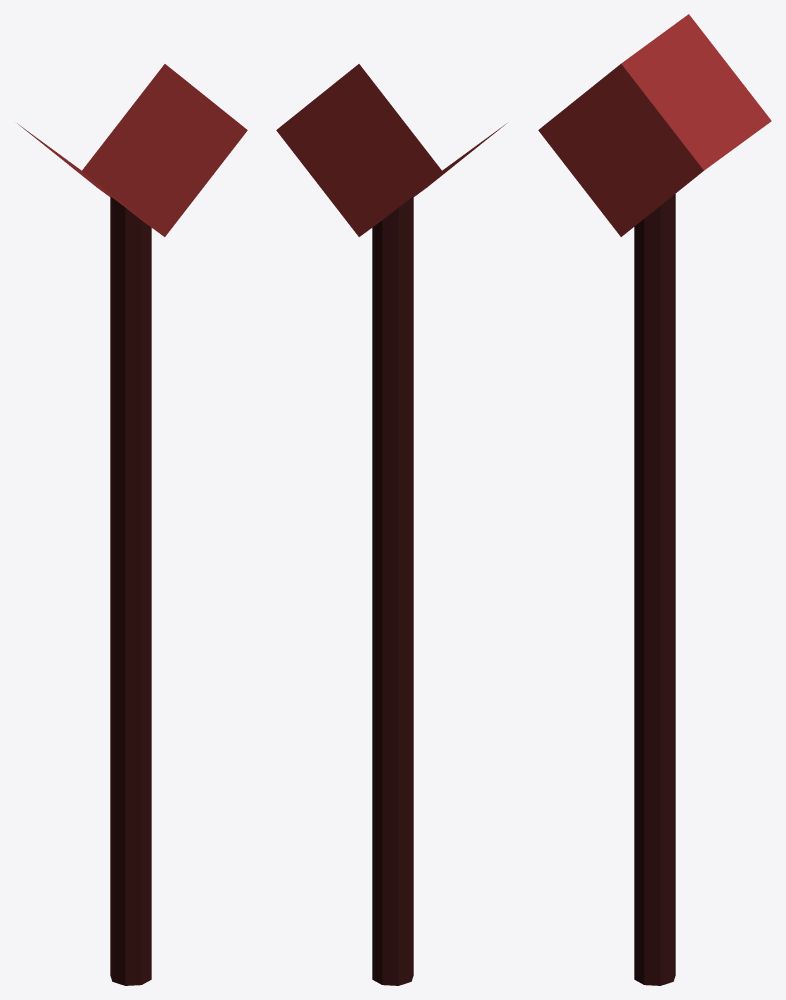
Rendered from warlock.glb.
3 renders of one model, left to right at view 1: azimuth 30°, elevation 25°; view 2: azimuth 150°, elevation 25°; view 3: azimuth 330°, elevation 25°, orthographic.
Parts seen in each view (by area): view 1: warlock-shaft, warlock-head-gem; view 2: warlock-shaft, warlock-head-gem; view 3: warlock-shaft, warlock-head-gem.
Boxes of the visible parts, left/top/right/bottom form: warlock-shaft: left=110, top=196, right=151, bottom=985; warlock-head-gem: left=17, top=64, right=247, bottom=236; warlock-shaft: left=372, top=196, right=413, bottom=985; warlock-head-gem: left=276, top=64, right=506, bottom=236; warlock-shaft: left=634, top=194, right=675, bottom=985; warlock-head-gem: left=538, top=14, right=771, bottom=236.
Bounding box in the file's own units: 0.3111 × 1.68 × 0.22.
